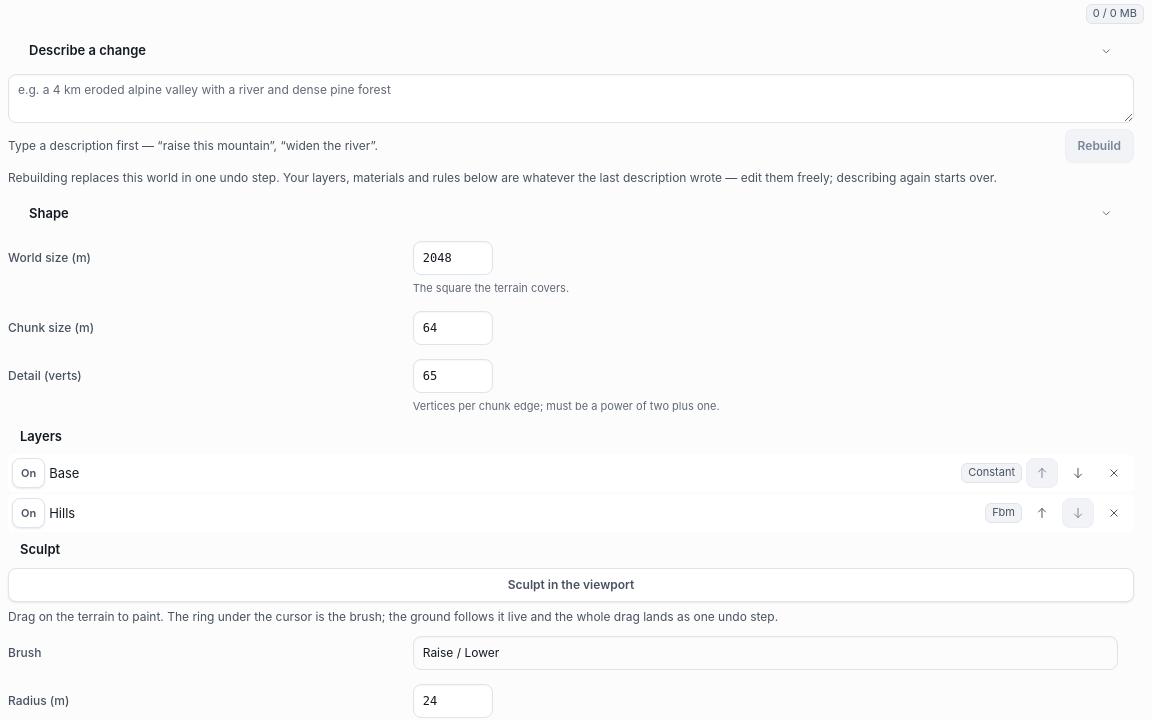
a refused edit shows the reason and the fix instead of failing silently
Replace the text in the number field with test id "terrain-chunk-verts" with "50" at (453, 376), box [413,359,493,393]
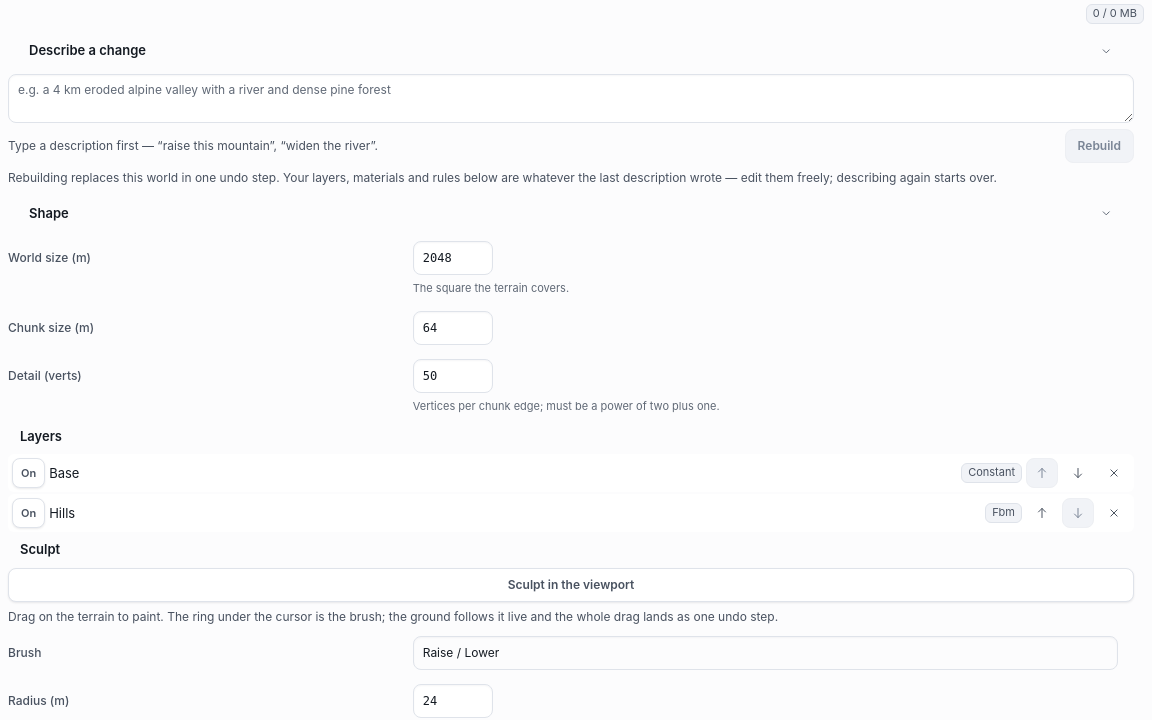
Leave the number field with test id "terrain-chunk-verts", box [413,359,493,393]
(page scrolled)
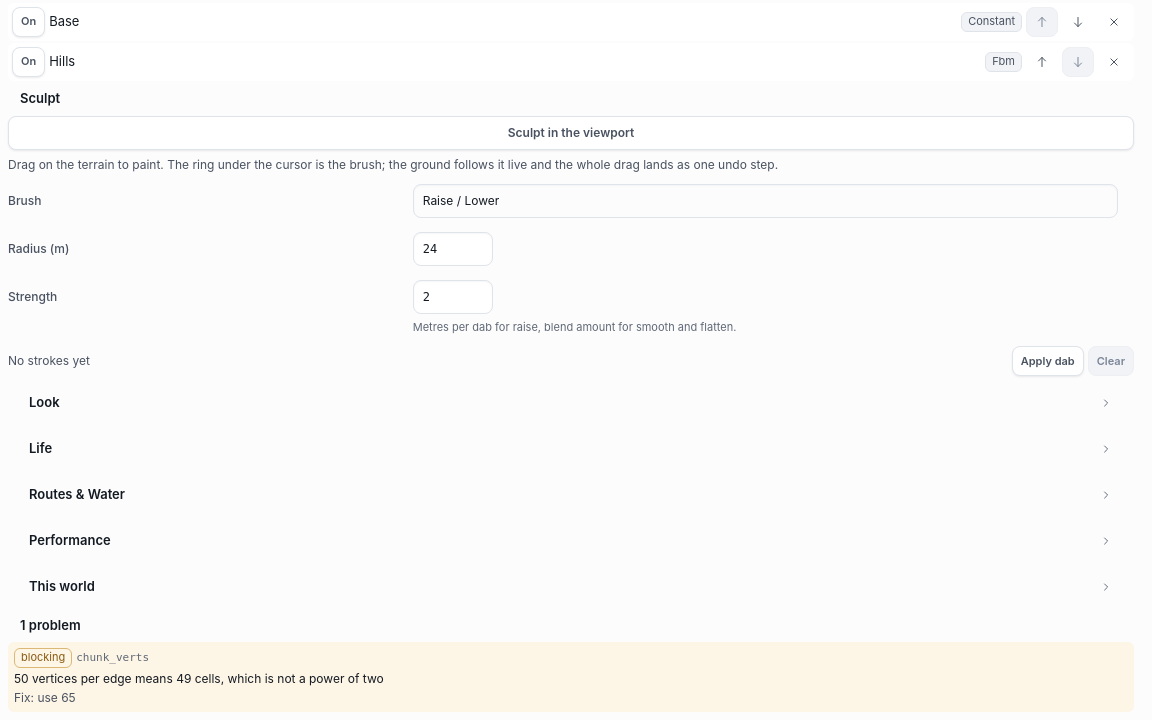
Result: the element with test id "terrain-issues" shows "chunk_verts" at [76,651,149,664]
Result: the element with test id "terrain-issues" shows "Fix: use 65" at [8,614,1134,712]
